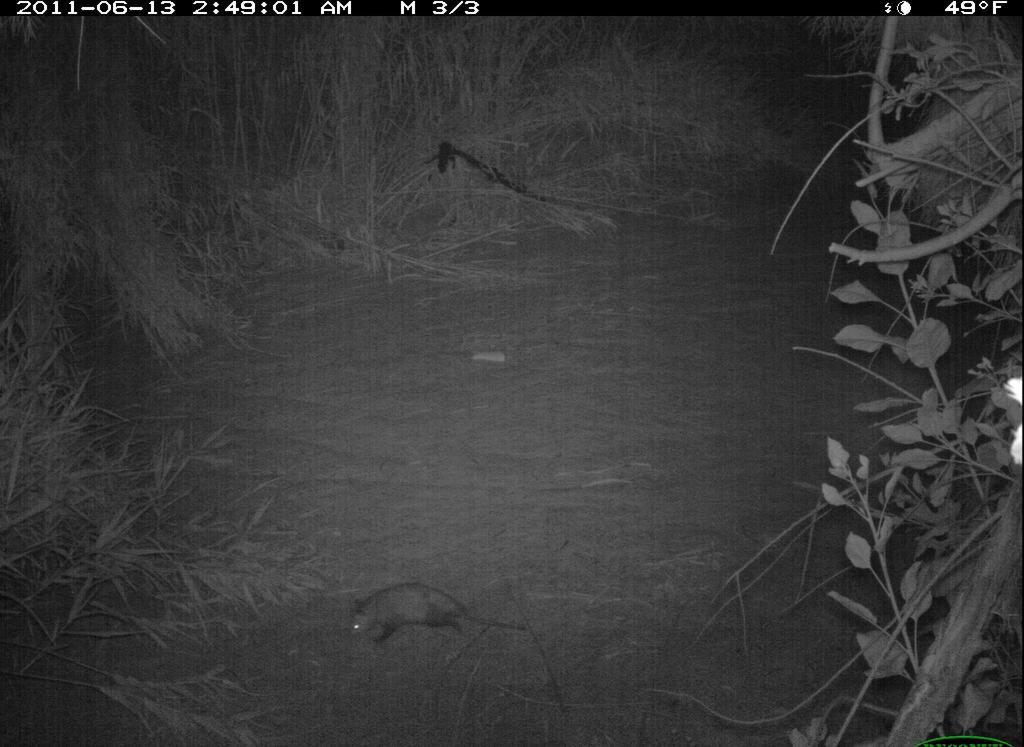opossum: (342, 573, 533, 658)
